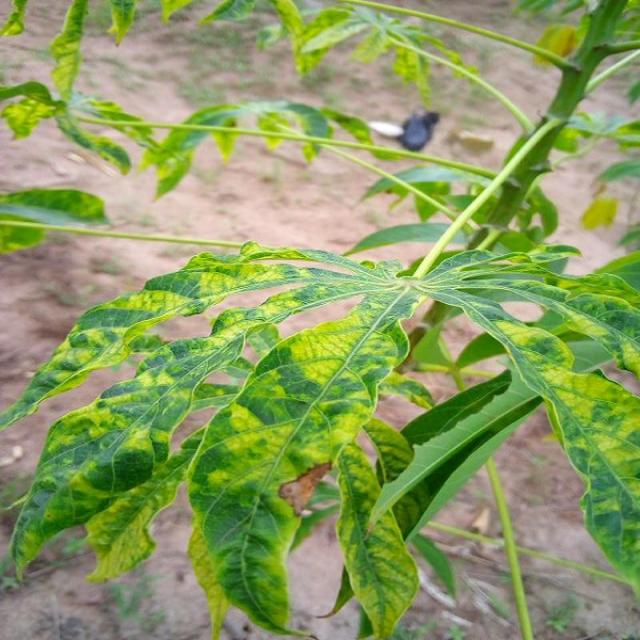Mosaico: (115, 208, 640, 584)
